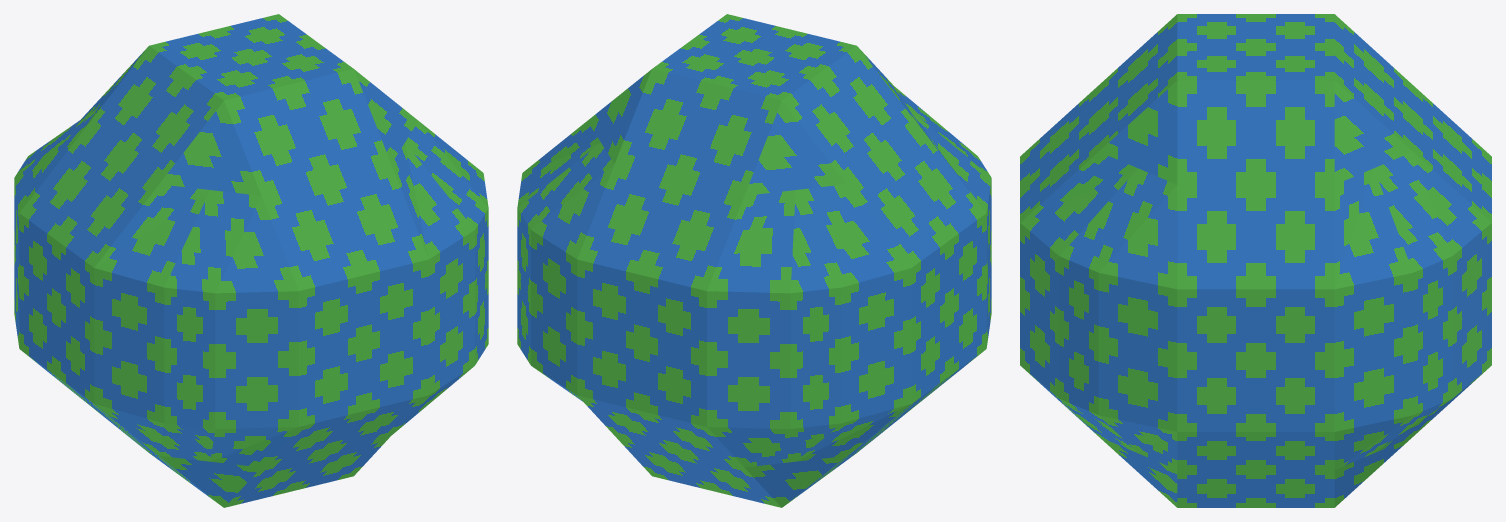
The model's file is earth.glb.
The picture shows the model from 3 angles, left to right: view 1: azimuth 30°, elevation 25°; view 2: azimuth 150°, elevation 25°; view 3: azimuth 270°, elevation 25°; orthographic projection. The views are drawn at different scales.
Bounding box in the file's own units: 3 × 3 × 3.
Materials: 1 (1 with a texture image).
